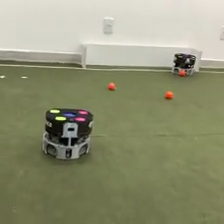ball: (164, 90, 174, 99), (107, 81, 116, 90), (179, 69, 186, 76)
goal: (80, 40, 203, 73)
robot: (41, 106, 96, 163), (172, 52, 197, 75)
